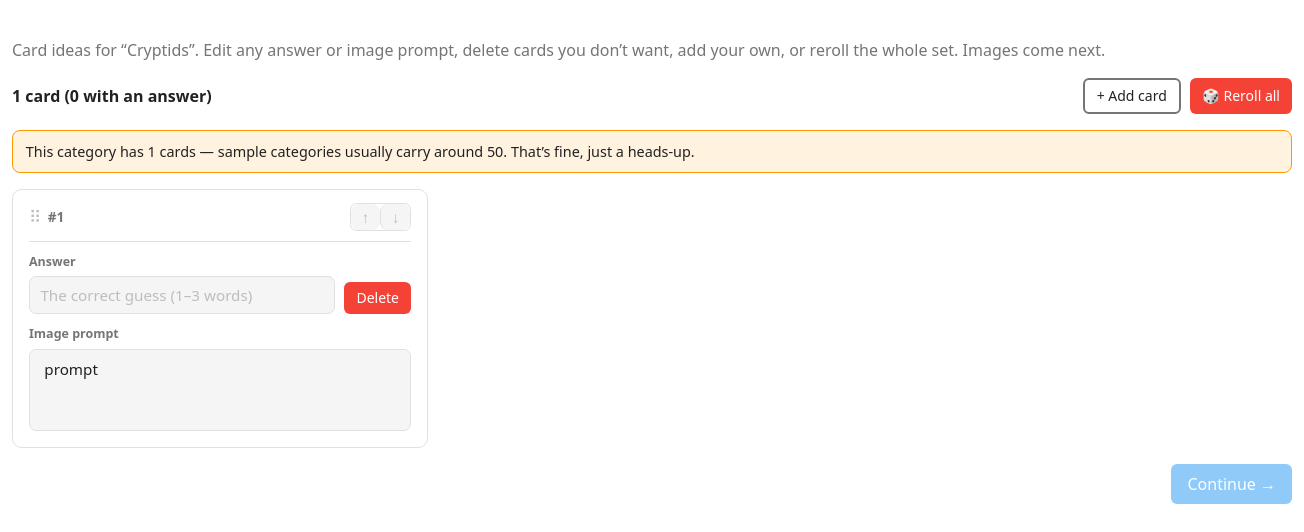
Scenario: CardsStep › disables Continue until at least one card has a non-empty answer
Expected: the button "Continue →" is disabled, [1172, 464, 1292, 504]
Type "Chupacabra" into the field labelled "Answer". click: x=182, y=295
box: [29, 276, 335, 314]
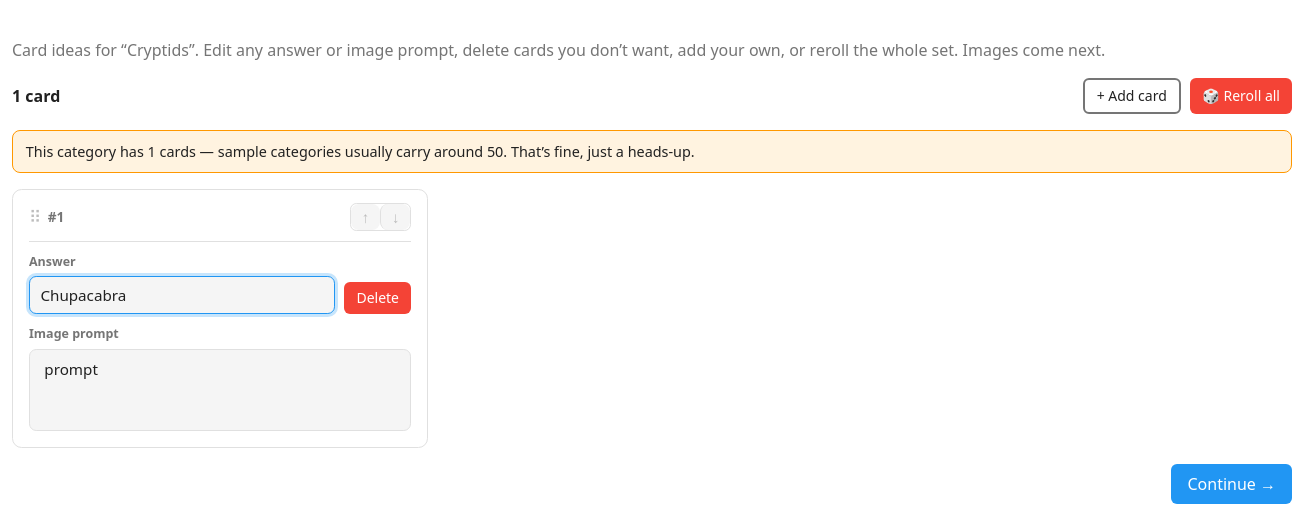
Expected: the button "Continue →" is enabled
Click the button "Continue →". click: x=1232, y=484
box: [1172, 464, 1292, 504]
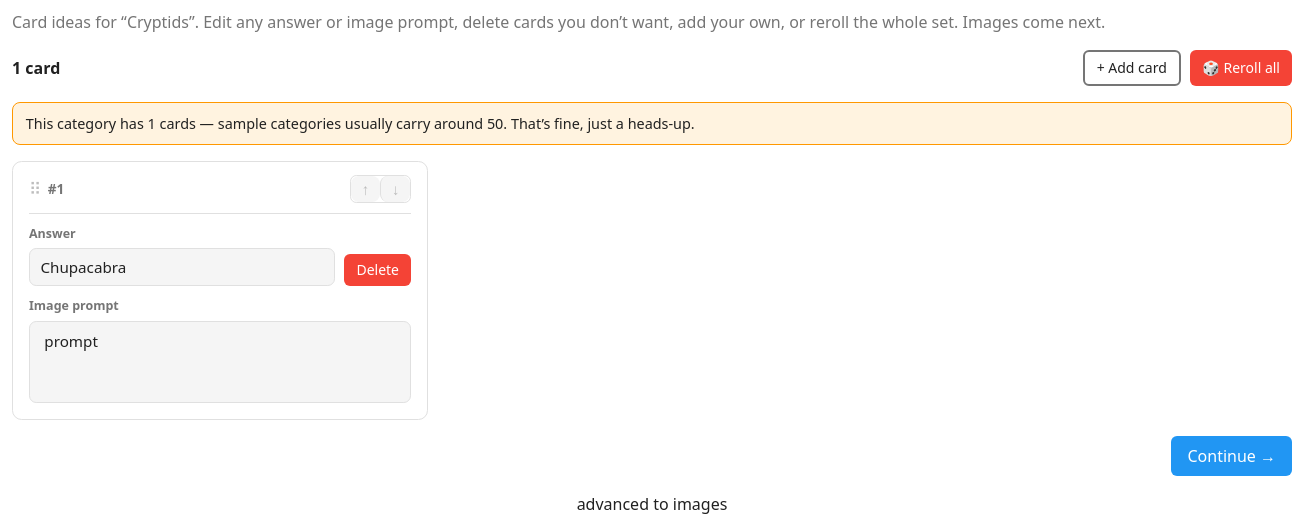
Expected: the text "advanced to images" is shown, [577, 493, 727, 515]
